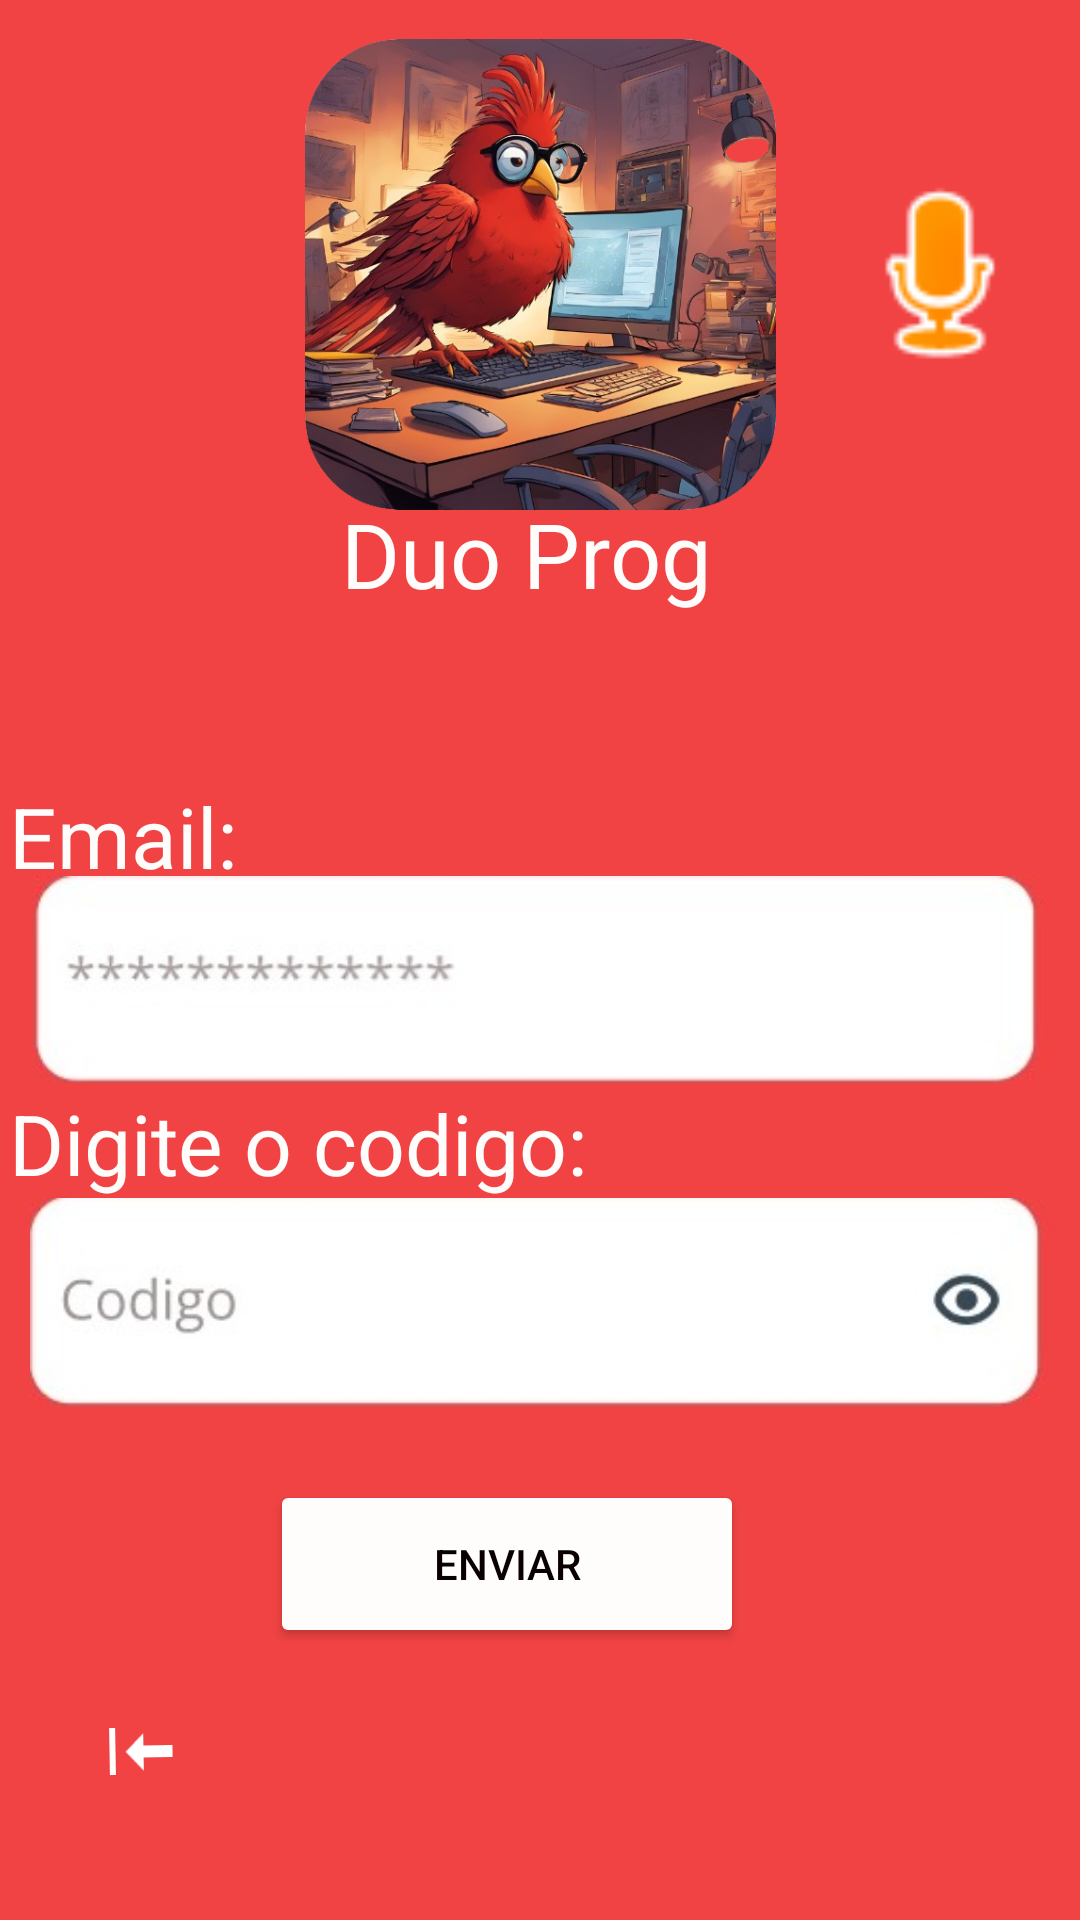

Point at icon controls on the screen. Image size 1080w x 1920h, points as [x,y].
presence audio away: [940,274]
